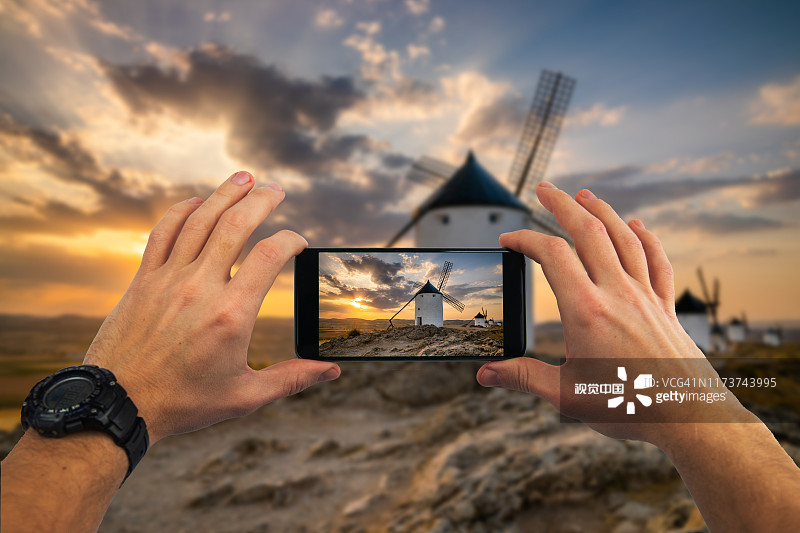taking photos: (417, 167, 781, 516), (45, 155, 387, 498)
